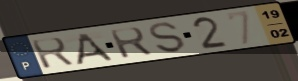2: (191, 15, 231, 52)
7: (225, 10, 254, 46)
A: (75, 31, 117, 67)
R: (106, 25, 156, 60), (28, 36, 77, 70)
S: (148, 21, 189, 54)
